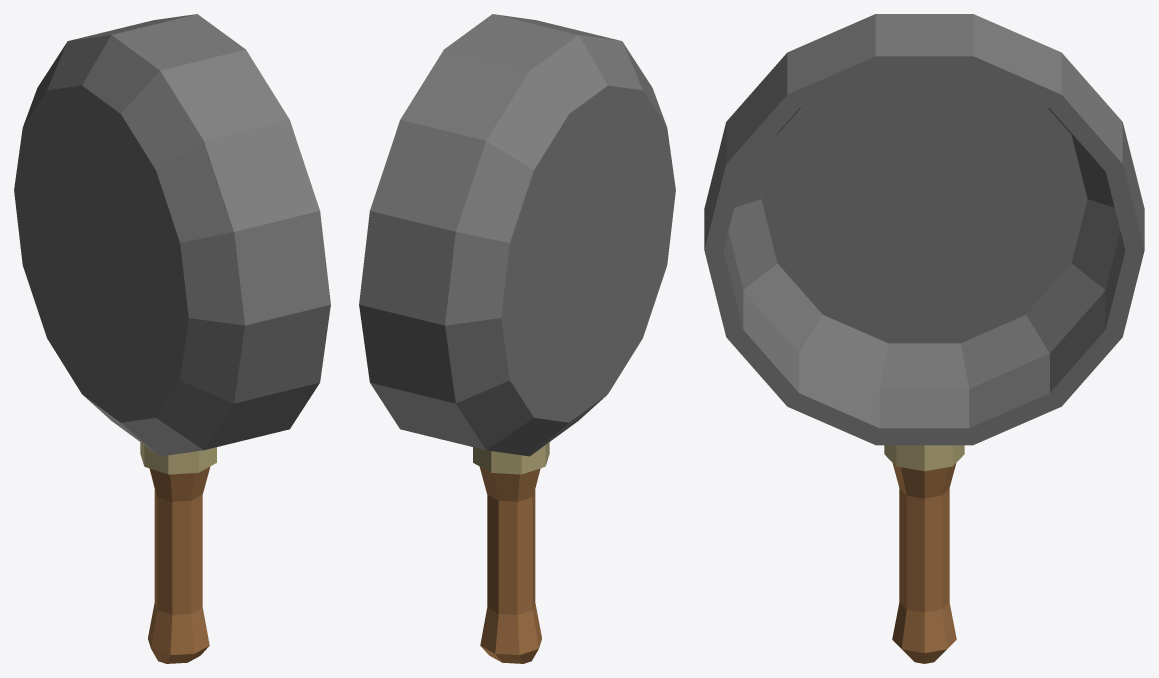
The model's file is pan.glb.
3 views of the same model, side by side, from view 1: azimuth 30°, elevation 25°; view 2: azimuth 150°, elevation 25°; view 3: azimuth 270°, elevation 25° (orthographic).
Visible parts, largest first — view 1: Poele; view 2: Poele; view 3: Poele.
Boxes of the visible parts, bbox=[...] form: Poele: bbox=[14, 14, 330, 663]; Poele: bbox=[359, 14, 675, 663]; Poele: bbox=[704, 14, 1144, 663].
Bounding box in the file's own units: 1.21 × 5.92 × 3.81.
